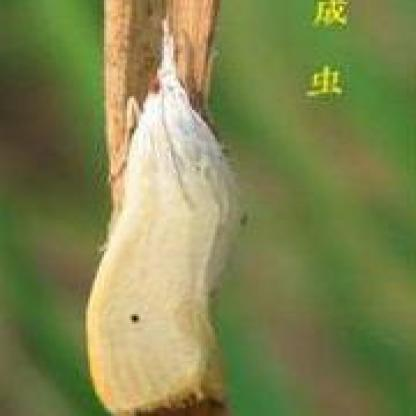stem-borer: (83, 14, 241, 416)
